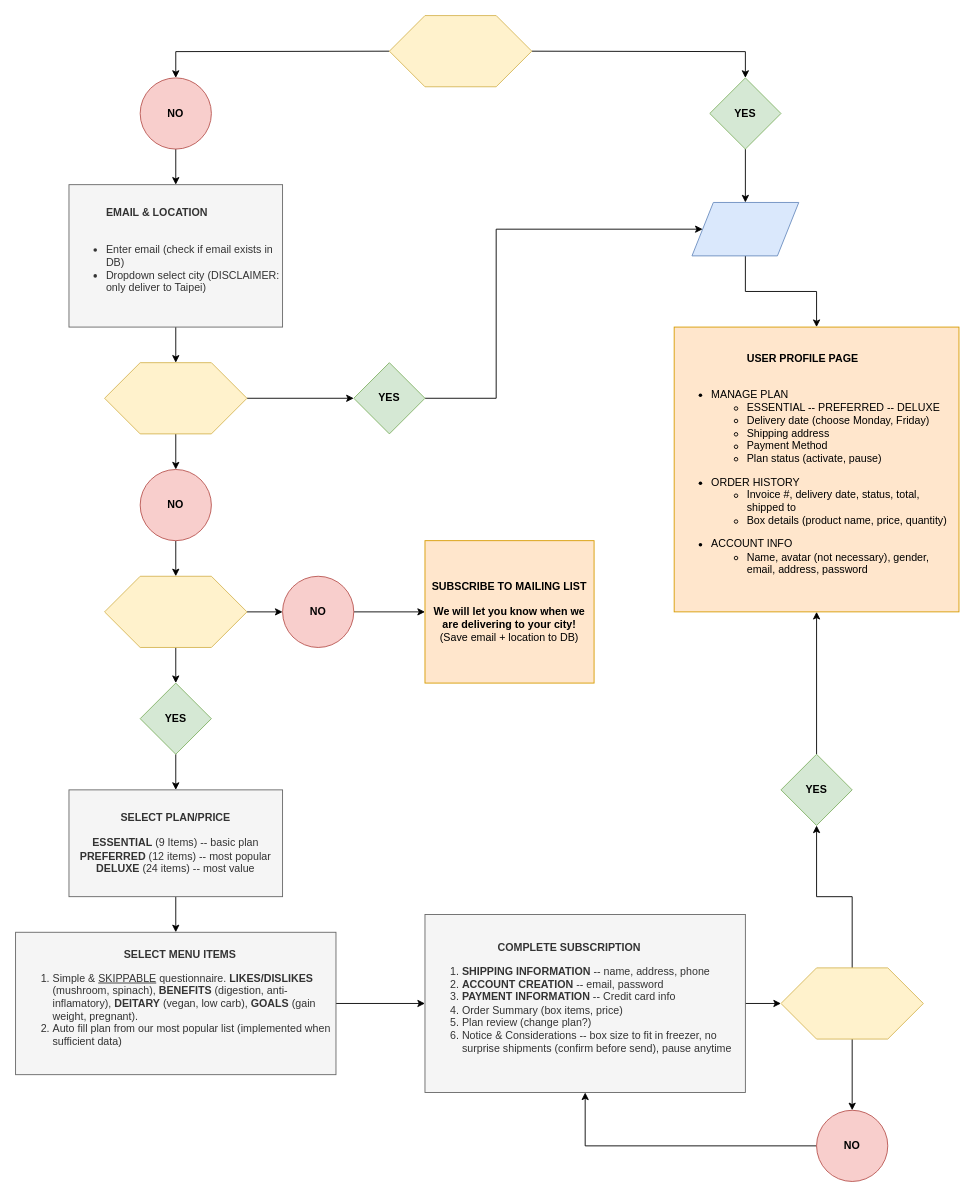
The diagram is 975 pixels wide and 1197 high, and some of its shapes have lost their labels. Here are the shapes that lost their labels. From the top down, the centre of each, then its label:
the point at 460,51: ALREADY A USER?
the point at 745,229: LOGIN
the point at 175,398: EMAIL EXISTS?
the point at 175,611: DELIVERING TO OUR OPERATING LOCATION?
the point at 851,1003: SUBSCRIPTION SUCCESS?
